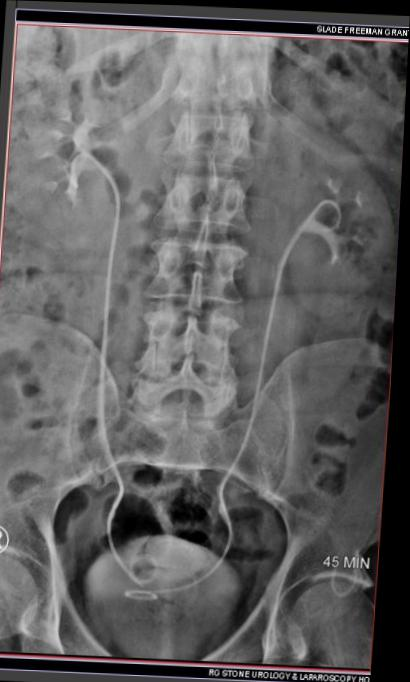bladder: (64, 531, 254, 679)
left kidney: (269, 112, 405, 330)
vertebrae: (161, 100, 260, 170)
